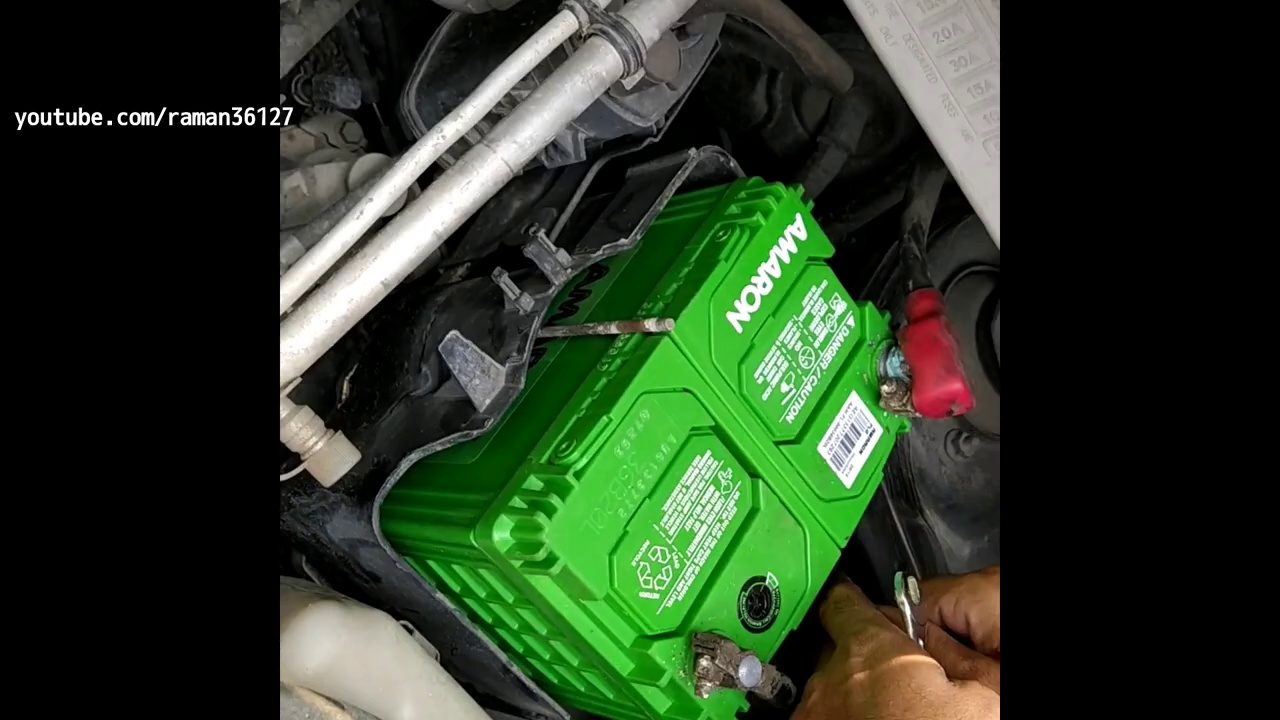battery: (511, 177, 963, 720)
neg_connected: (667, 588, 793, 711)
pos_connected: (868, 287, 976, 441)
